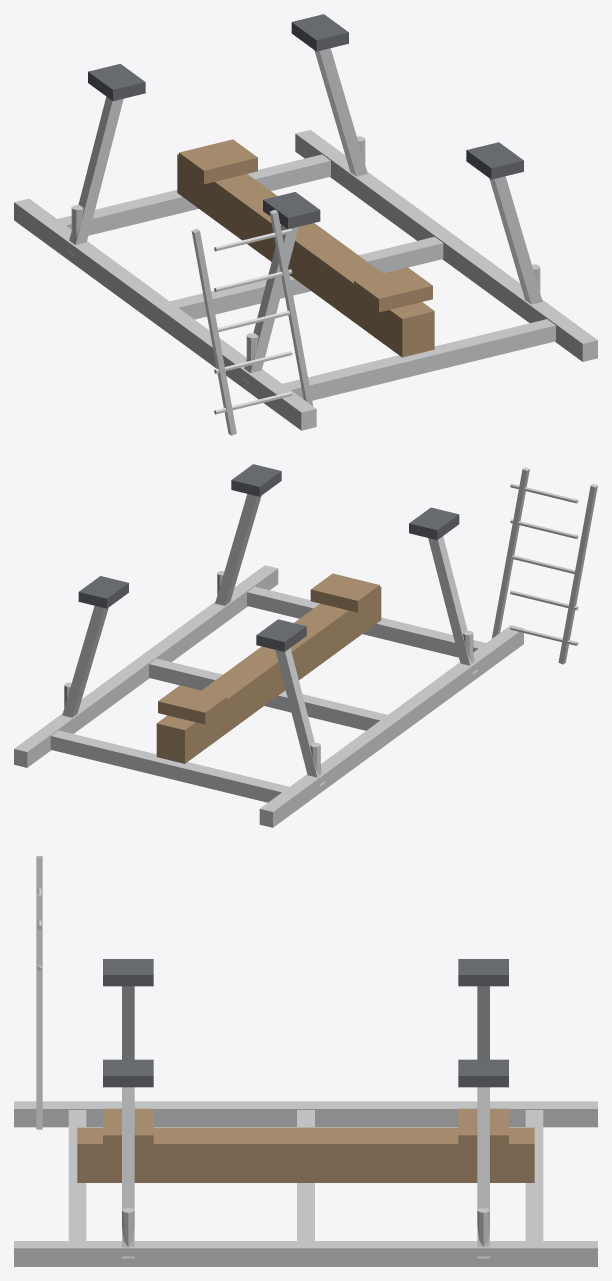
Rendered from marina-and-yacht-club-marina-and-yacht-club-hardstandi-1bb4dc13__38314.glb.
The picture shows the model from 3 angles, top to bottom: view 1: azimuth 30°, elevation 25°; view 2: azimuth 150°, elevation 25°; view 3: azimuth 270°, elevation 25°; orthographic projection. The views are drawn at different scales.
Parts seen in each view (by area): view 1: marina-and-yacht-club-hardstanding-cradle; view 2: marina-and-yacht-club-hardstanding-cradle; view 3: marina-and-yacht-club-hardstanding-cradle.
Boxes of the visible parts, left/top/right/bottom form: marina-and-yacht-club-hardstanding-cradle: left=14, top=14, right=597, bottom=435; marina-and-yacht-club-hardstanding-cradle: left=14, top=464, right=597, bottom=827; marina-and-yacht-club-hardstanding-cradle: left=14, top=856, right=597, bottom=1266.
Bounding box in the file's own units: 3.63 × 1.89 × 4.6.
